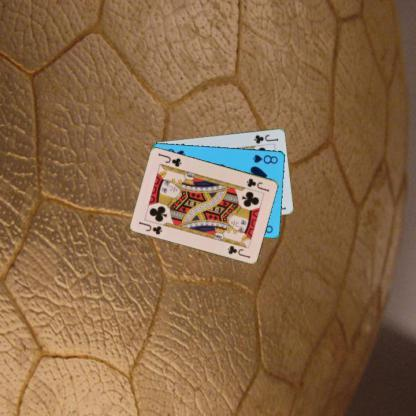8s: (250, 152, 280, 164)
Jc: (136, 218, 164, 236), (244, 176, 270, 193), (252, 132, 280, 144)
